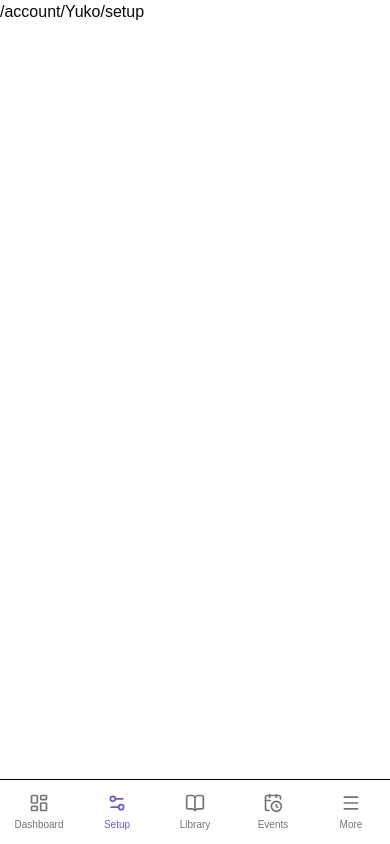
Scenario: MobileNavigation › keeps the four mid-session routes in the bottom bar and the remaining routes in the drawer
The width and height of the screenshot is (390, 844).
Expected: the link "Dashboard" is shown, [14,792,63,830]
Expected: the link "Setup" is shown, [104,792,130,830]
Click the button "More" at (351, 812), box [312,780,389,843]
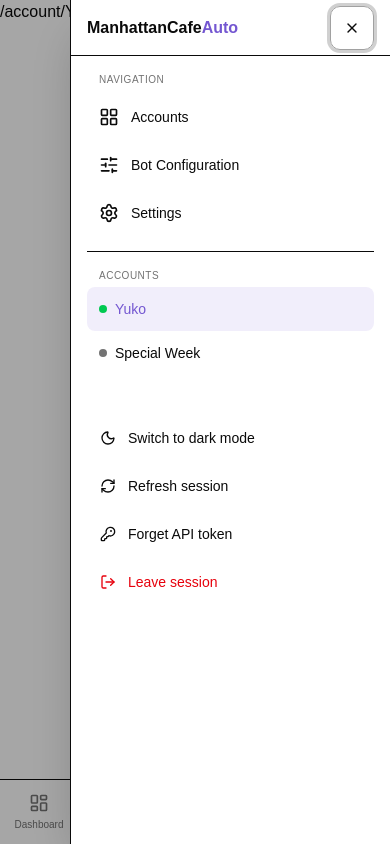
Expected: the link "Accounts" is shown, [99,107,189,127]
Expected: the link "Bot Configuration" is shown, [99,155,239,175]
Expected: the link "Settings" is shown, [99,203,182,223]
